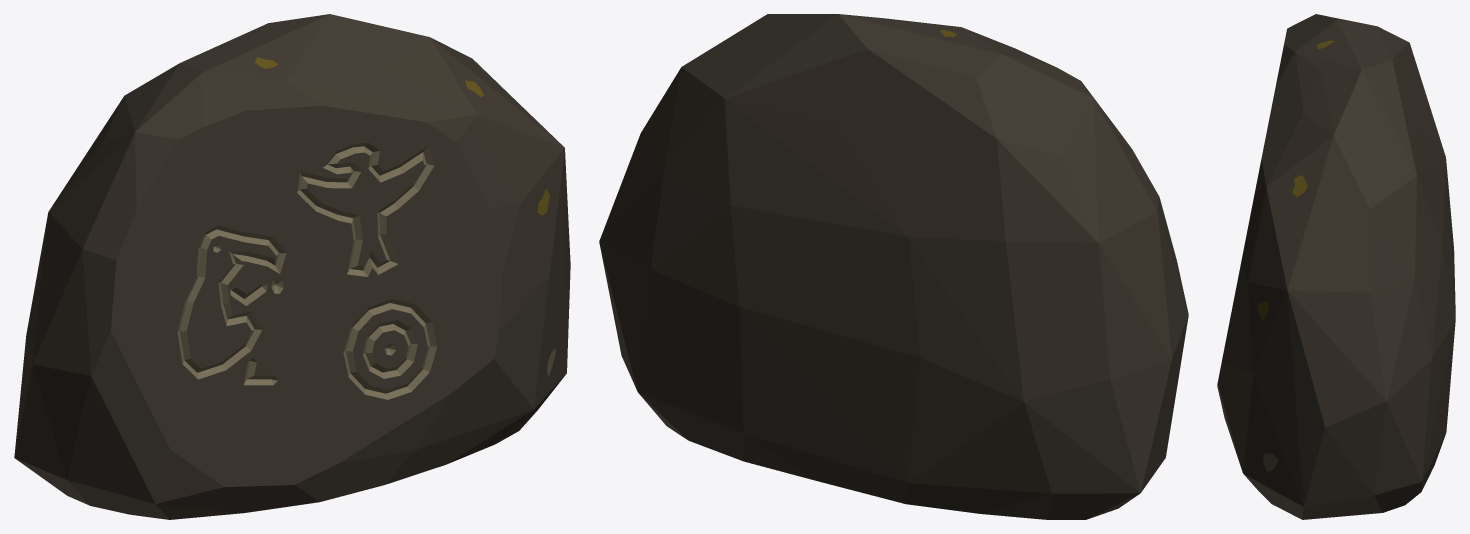
File: petroglyph-boulder-7203c3.glb
3 views of the same model, side by side, from view 1: azimuth 30°, elevation 25°; view 2: azimuth 150°, elevation 25°; view 3: azimuth 270°, elevation 25° (orthographic). The views are drawn at different scales.
Visible parts, largest first — view 1: stone; view 2: stone; view 3: stone.
Boxes of the visible parts, x1=… form: stone: x1=14, y1=14, x2=570, y2=519; stone: x1=599, y1=14, x2=1188, y2=519; stone: x1=1217, y1=14, x2=1455, y2=519.
Size of the model in its own units: 1.57 by 1.18 by 0.6819.
